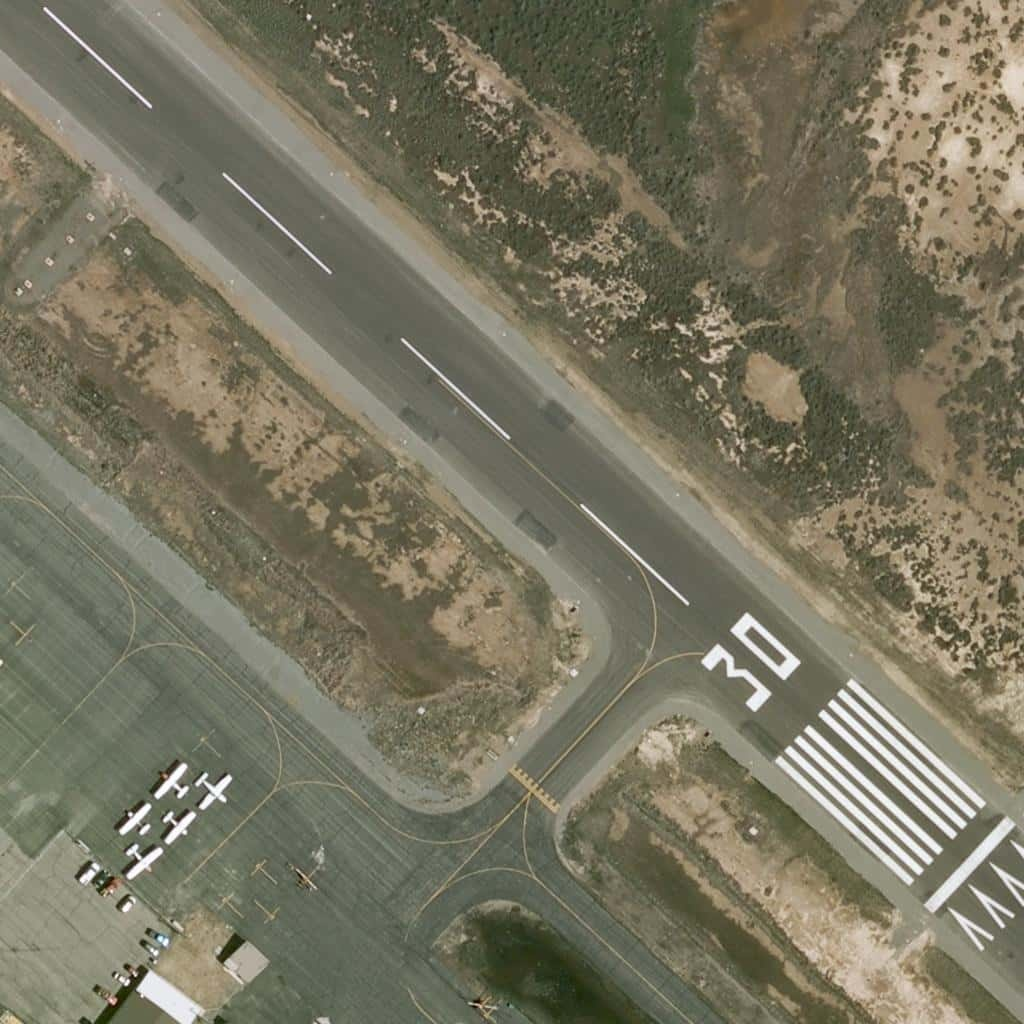plane: (118, 803, 156, 840), (125, 842, 163, 879), (159, 812, 197, 849), (196, 773, 234, 810), (153, 764, 191, 801)
